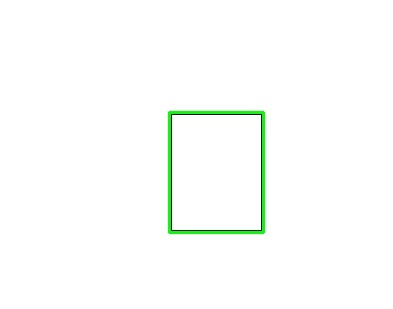line_segment: (168, 111, 265, 234)
